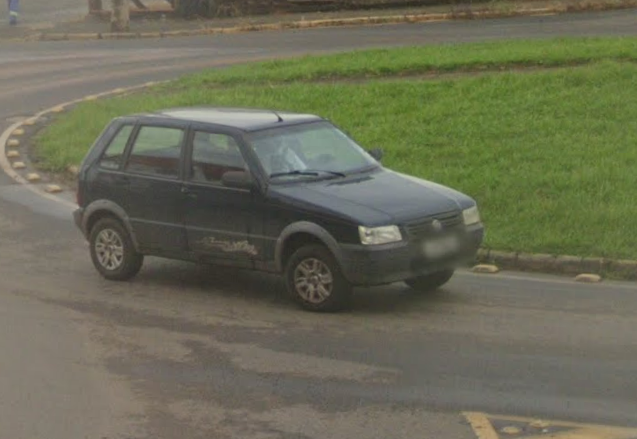car: (72, 92, 488, 332)
